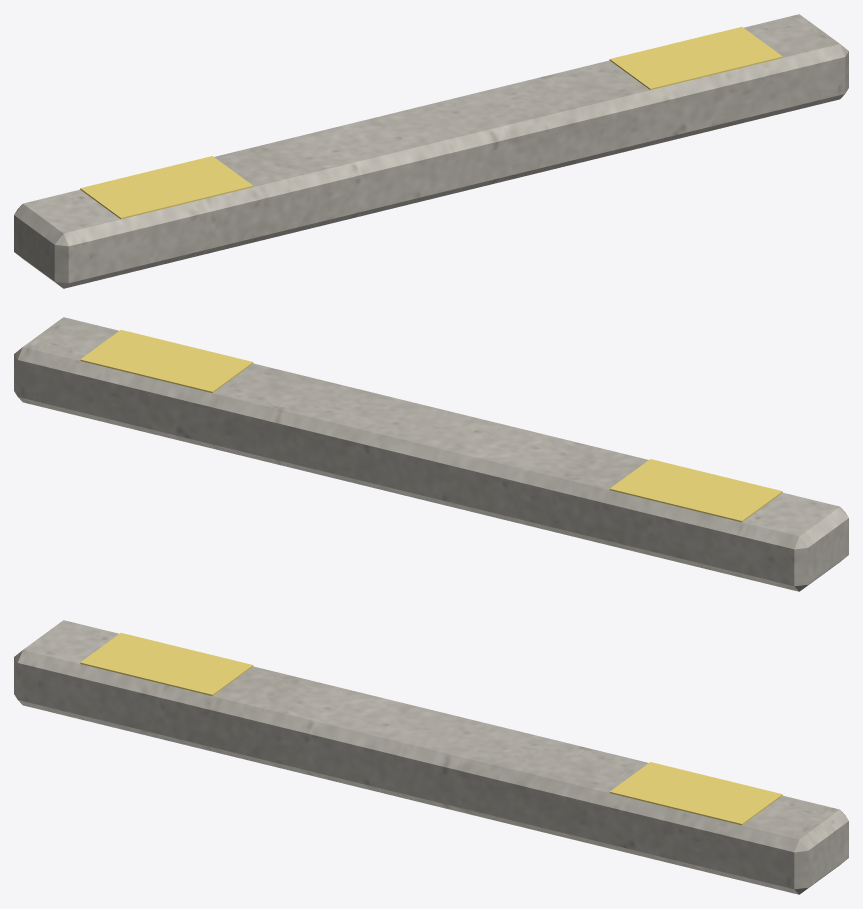
File: wheel_stop.glb
The picture shows the model from 3 angles, top to bottom: view 1: azimuth 30°, elevation 25°; view 2: azimuth 150°, elevation 25°; view 3: azimuth 330°, elevation 25°; orthographic projection.
Parts seen in each view (by area): view 1: wheel_stop_concrete, wheel_stop_paint_y; view 2: wheel_stop_concrete, wheel_stop_paint_y; view 3: wheel_stop_concrete, wheel_stop_paint_y.
Boxes of the visible parts, box(x1,y1,x2,y2) form: wheel_stop_concrete: box(14, 14, 848, 288); wheel_stop_paint_y: box(80, 27, 782, 219); wheel_stop_concrete: box(14, 317, 848, 591); wheel_stop_paint_y: box(80, 330, 782, 522); wheel_stop_concrete: box(14, 620, 848, 894); wheel_stop_paint_y: box(80, 633, 782, 825).
Bounding box in the file's own units: 1.8 × 0.123 × 0.2.
Materials: 2 (1 with a texture image).
